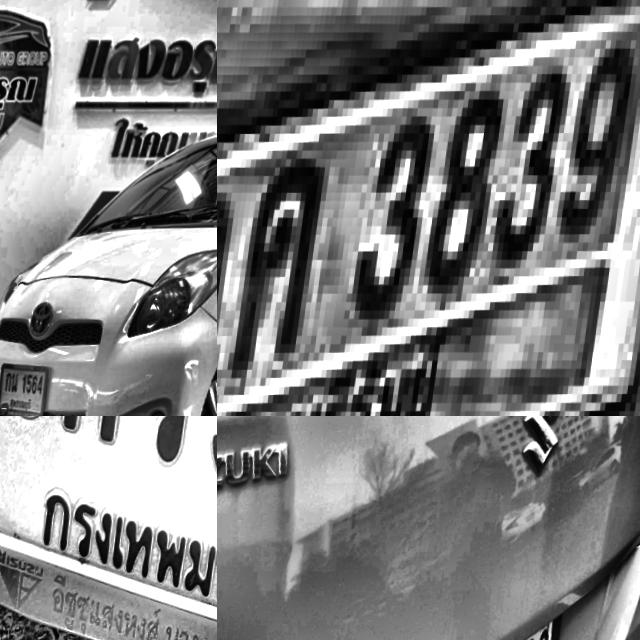license-plate: (217, 0, 640, 416), (0, 416, 217, 640), (3, 360, 59, 416)
